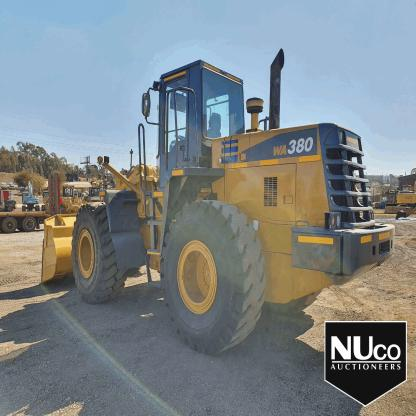bull_dozer/loader/grader: (37, 52, 393, 363)
